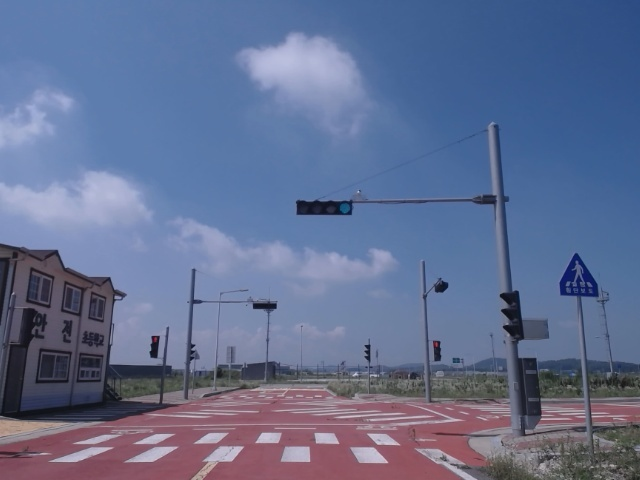straight_green_4: (292, 199, 356, 219)
